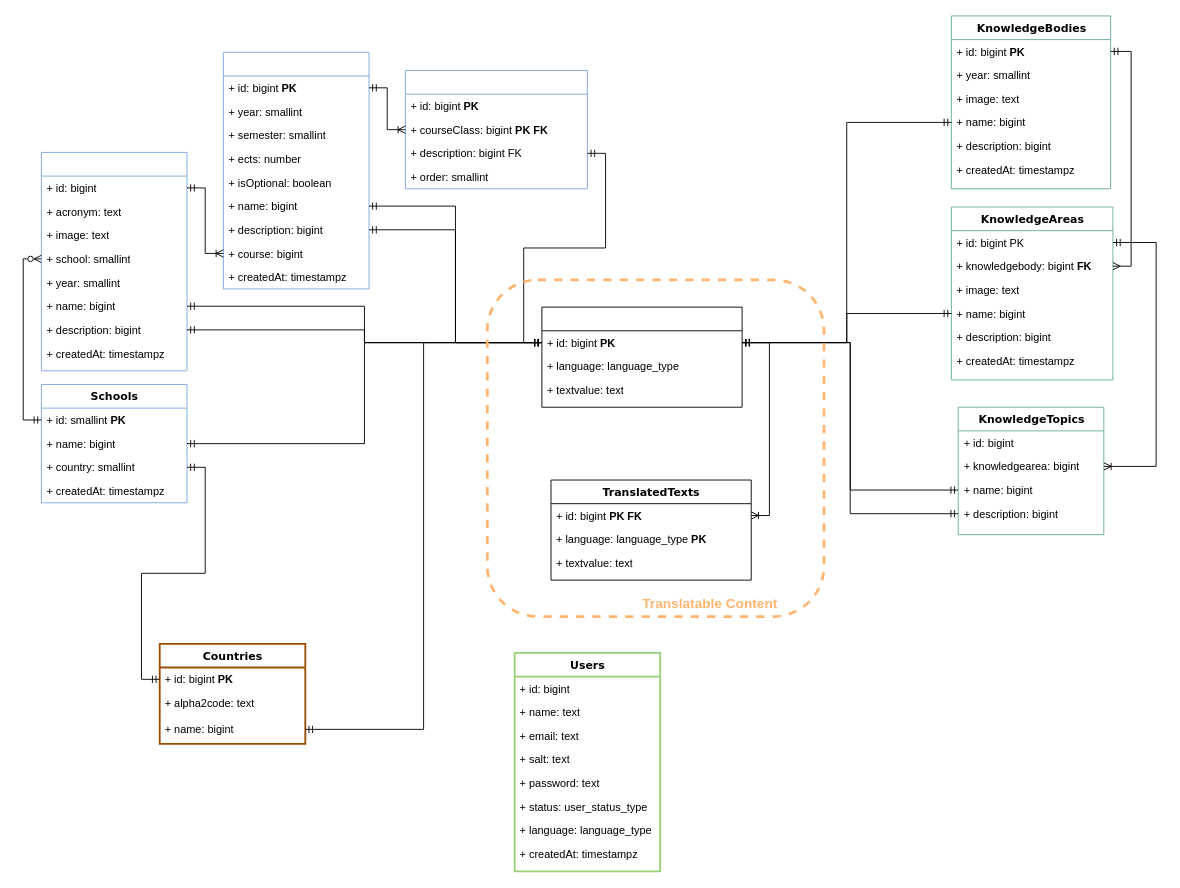
This 1180x888 diagram has some shape labels left out. Each missing label, with the box of its shape:
CourseClasses: (222, 51, 369, 289)
CourseClassTopics: (404, 70, 587, 189)
Courses: (40, 152, 187, 371)
TextContents: (541, 306, 742, 407)
